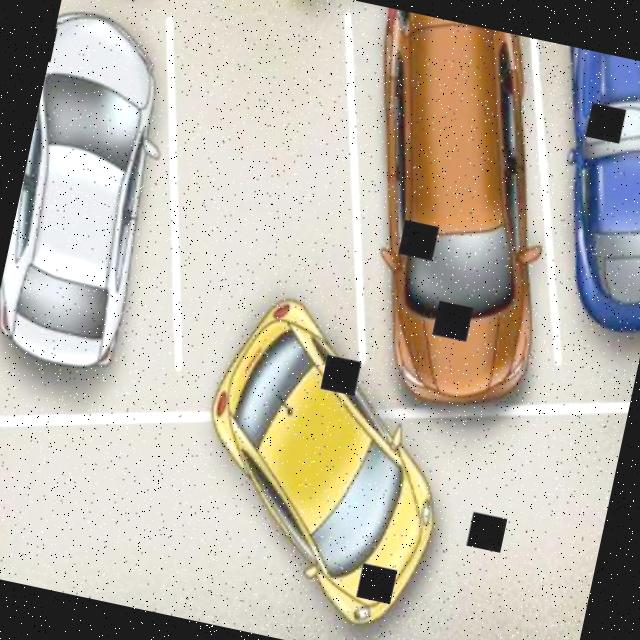empty: (141, 0, 383, 314)
occupied: (294, 5, 594, 428), (0, 6, 228, 420), (156, 358, 479, 640), (497, 43, 640, 348)
